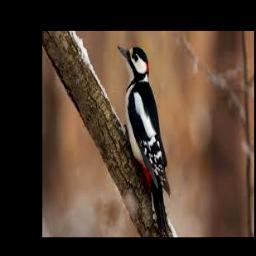Woodpecker: (117, 44, 170, 237)
